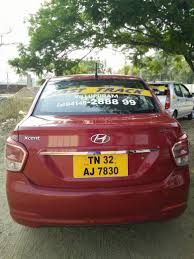T: (87, 155, 94, 164)
